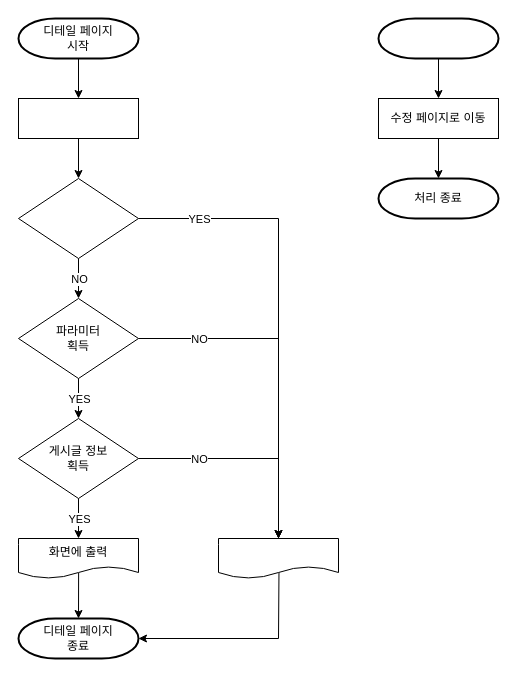
The diagram is 516 pixels wide and 676 high, and some of its shapes have lost their labels. Here are the shapes that lost their labels. From the top down, the centre of each, then its label:
the point at 438,38: 수정 버튼 클릭
the point at 78,118: DB 접속
the point at 78,218: DB 접속 예외 발생
the point at 278,558: 예외 메시지 출력
